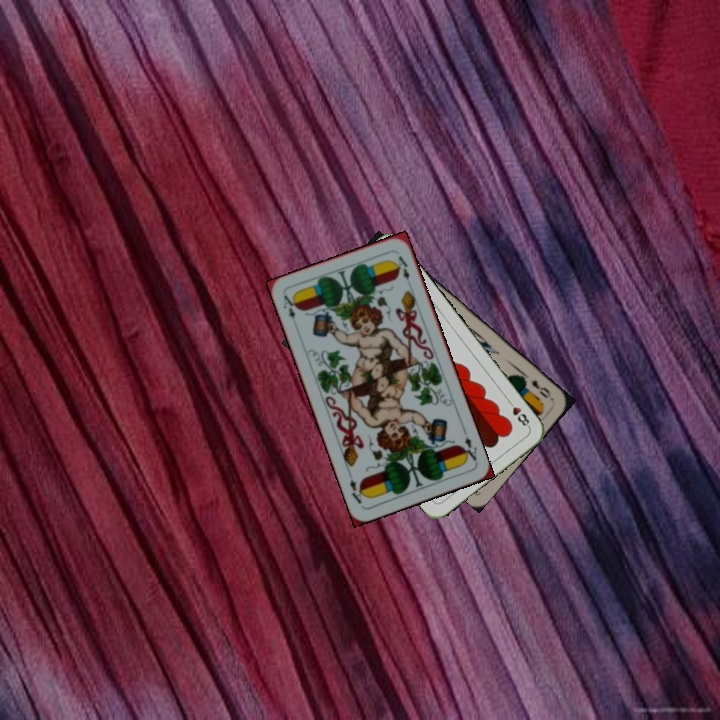EA: (457, 432, 480, 465), (279, 291, 300, 322)
EO: (520, 374, 556, 403)
H8: (503, 396, 532, 430)
